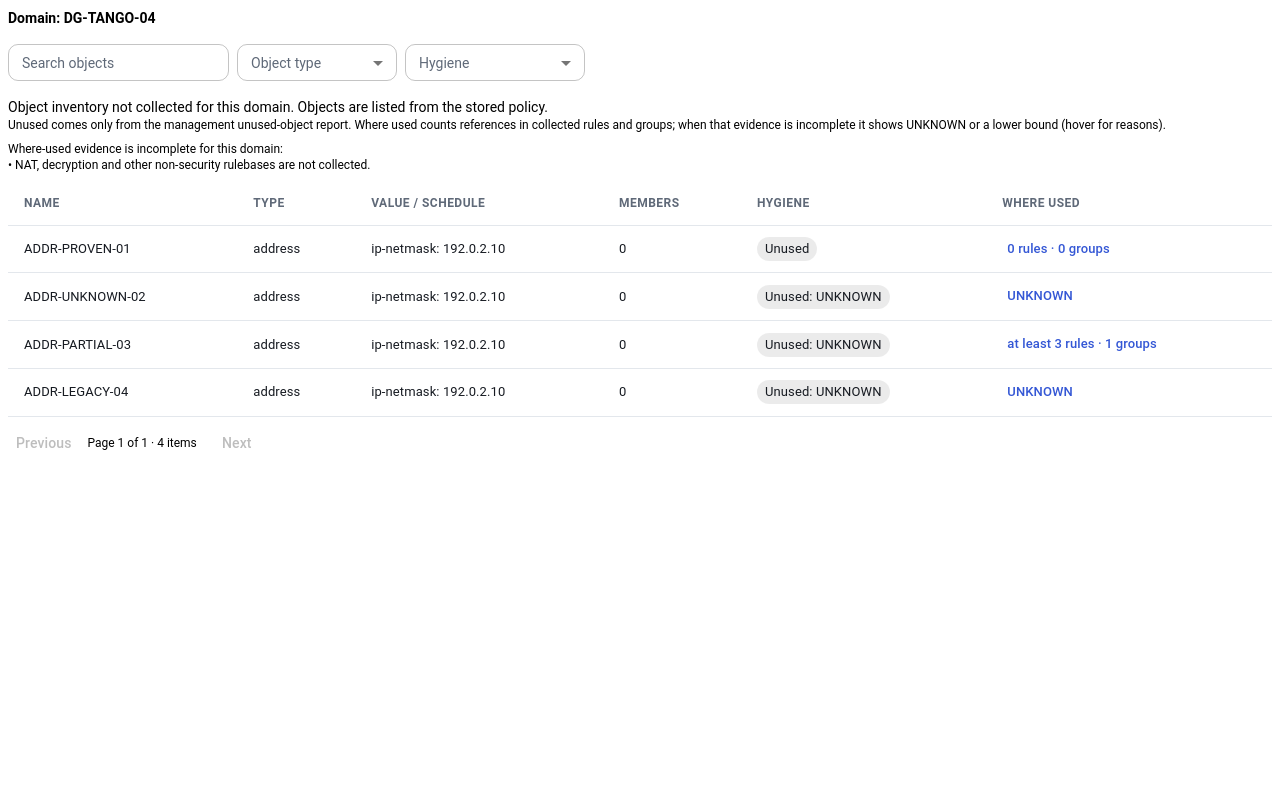
Scenario: confirms a proven zero in the usage drawer
Click the button with aria-label "Where used: ADDR-PROVEN-01": [1058, 249] box [1002,234,1115,264]
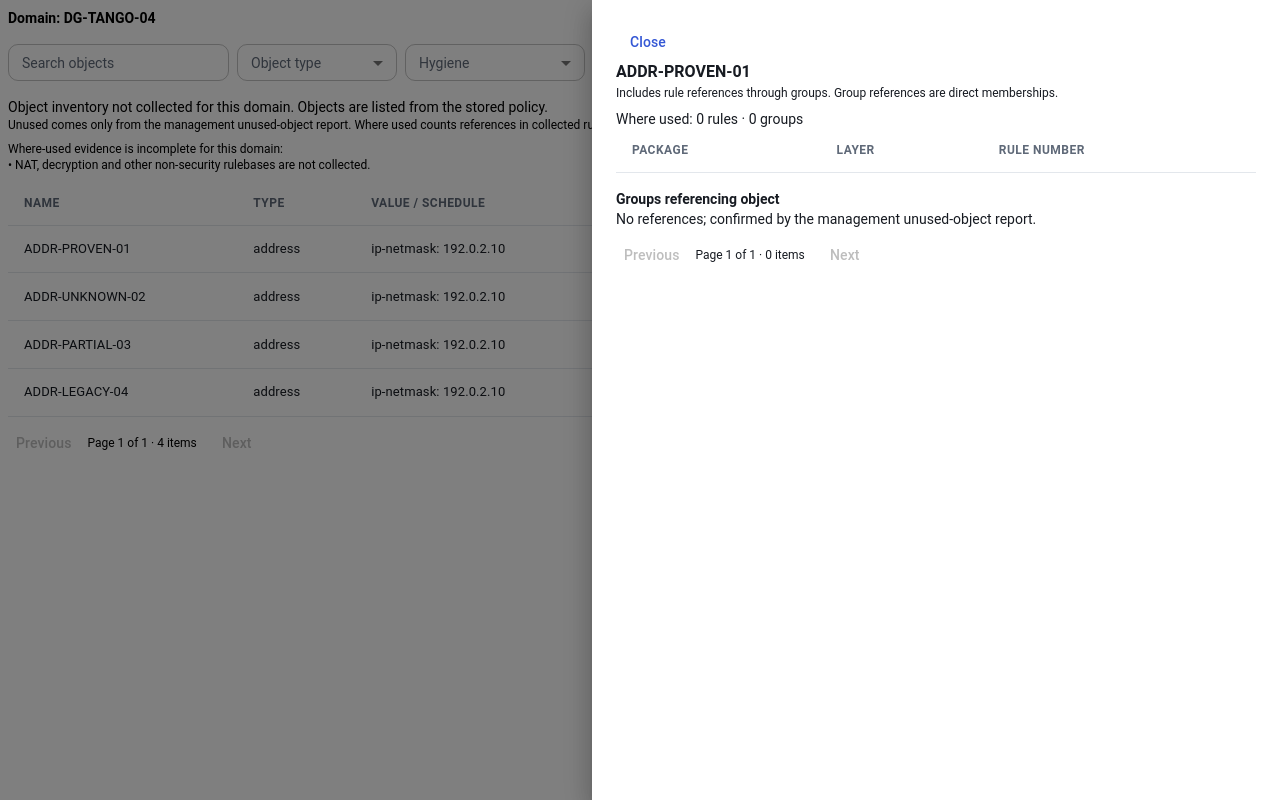
expect the text "No references; confirmed by the management unused-object report." is shown: met, box [616,211,1036,227]
